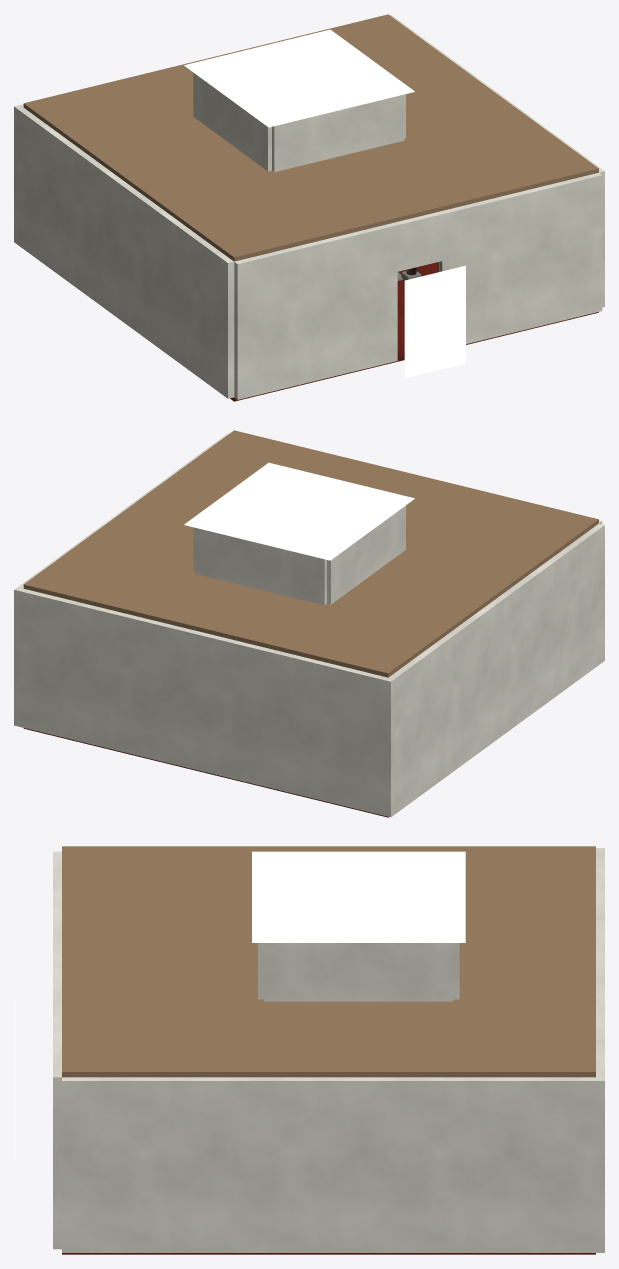
File: room_house_old.glb
3 views of the same model, one above another, from view 1: azimuth 30°, elevation 25°; view 2: azimuth 150°, elevation 25°; view 3: azimuth 270°, elevation 25° (orthographic). The views are drawn at different scales.
Visible parts, largest first — view 1: Room; view 2: Room; view 3: Room.
Part boxes in pixels (x1,y1,x2,y2): Room: (14, 14, 604, 401); Room: (14, 430, 604, 817); Room: (14, 846, 604, 1254).
Bounding box in the file's own units: 9.3 × 4.56 × 9.96.
28 materials, 8 textured.
